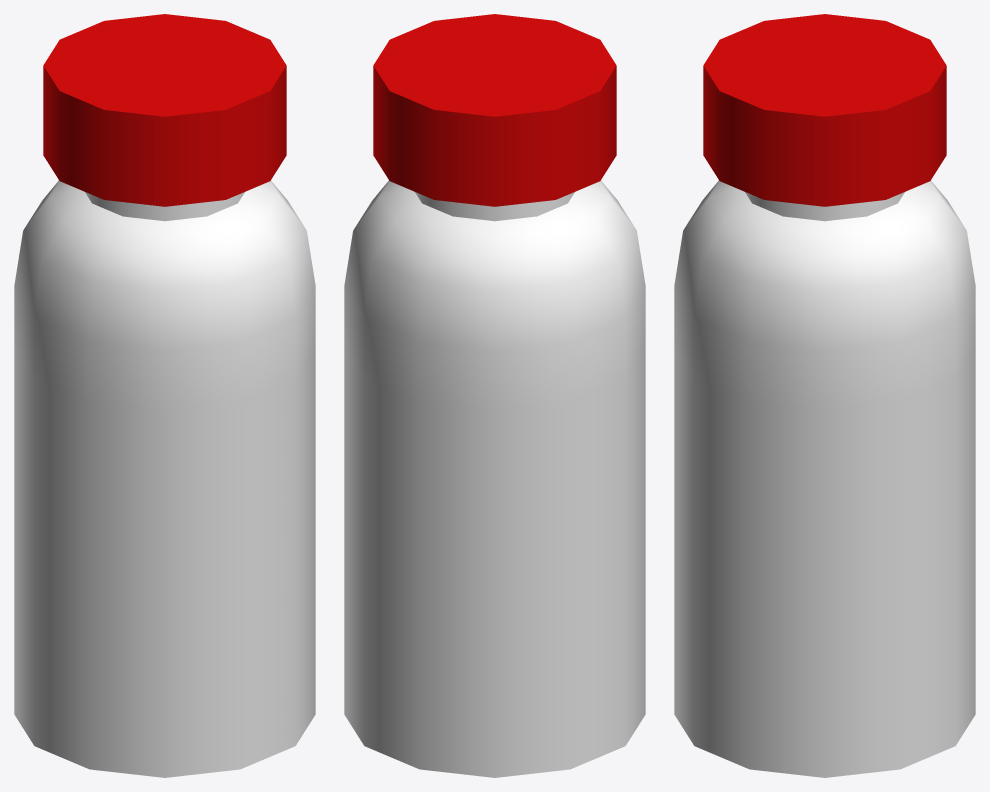
The model's file is Bottle.fbx.
The picture shows the model from 3 angles, left to right: view 1: azimuth 30°, elevation 25°; view 2: azimuth 150°, elevation 25°; view 3: azimuth 270°, elevation 25°; orthographic projection.
Visible parts, largest first — view 1: PlasticBottle03; view 2: PlasticBottle03; view 3: PlasticBottle03.
Boxes of the visible parts, x1,y1,x2,y2 form: PlasticBottle03: [14, 14, 315, 777]; PlasticBottle03: [344, 14, 645, 777]; PlasticBottle03: [674, 14, 975, 777].
Bounding box in the file's own units: 5.41 × 12.83 × 5.41.
